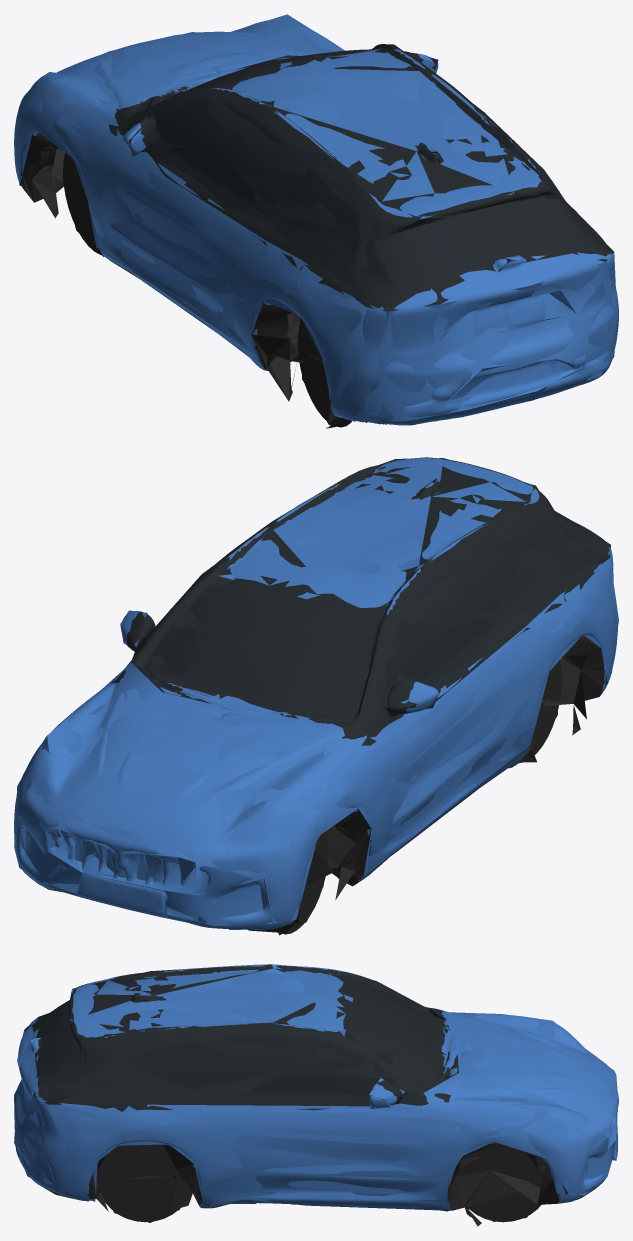
Rendered from maserati-grecale.glb.
The picture shows the model from 3 angles, top to bottom: view 1: azimuth 30°, elevation 25°; view 2: azimuth 150°, elevation 25°; view 3: azimuth 270°, elevation 25°; orthographic projection. The views are drawn at different scales.
Parts seen in each view (by area): view 1: body, far; view 2: body, far; view 3: body, far.
Part boxes in pixels (x1,y1,x2,y2): body: (14, 20, 618, 428); far: (16, 14, 617, 428); body: (14, 457, 617, 934); far: (14, 458, 618, 935); body: (14, 964, 618, 1226); far: (14, 964, 618, 1222).
Size of the model in its own units: 2.24 by 1.74 by 4.92.
